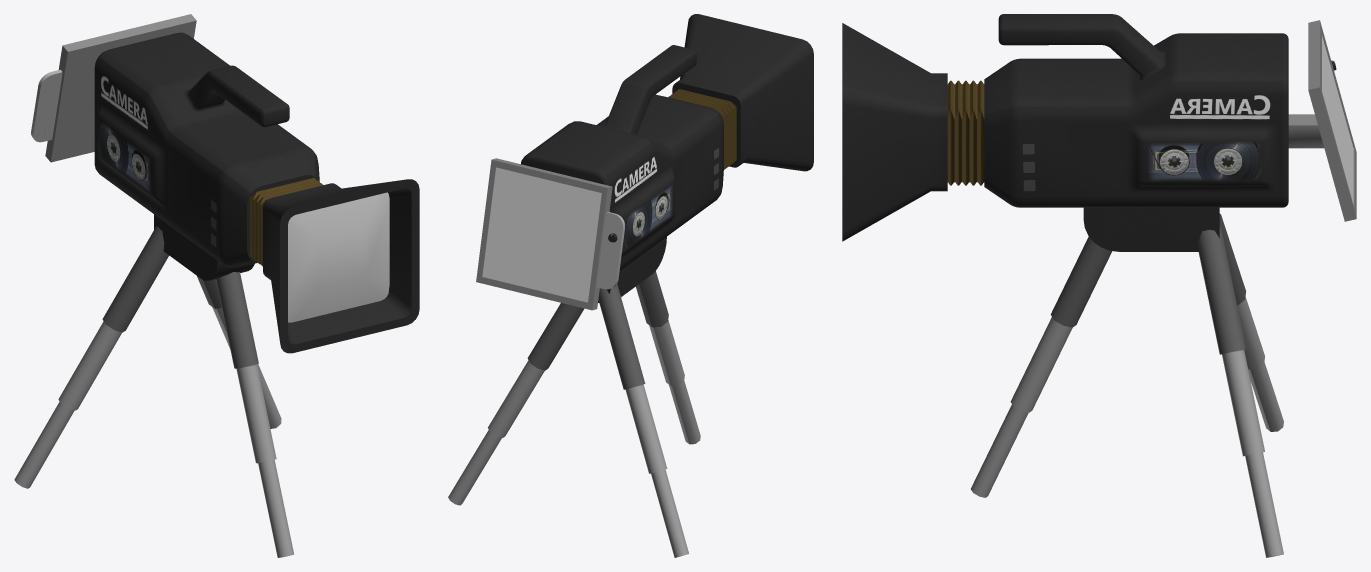
Rendered from Camera.fbx.
The picture shows the model from 3 angles, left to right: view 1: azimuth 30°, elevation 25°; view 2: azimuth 150°, elevation 25°; view 3: azimuth 270°, elevation 25°; orthographic projection. The views are drawn at different scales.
Parts seen in each view (by area): view 1: CamLod0; view 2: CamLod0, Screen; view 3: CamLod0, Screen.
Boxes of the visible parts, x1,y1,x2,y2 form: CamLod0: [14, 14, 419, 557]; CamLod0: [448, 14, 813, 557]; Screen: [482, 167, 601, 302]; CamLod0: [842, 14, 1356, 557]; Screen: [1322, 35, 1353, 204].
Size of what is drawn, in the model's own units: 239 by 383 by 375.
